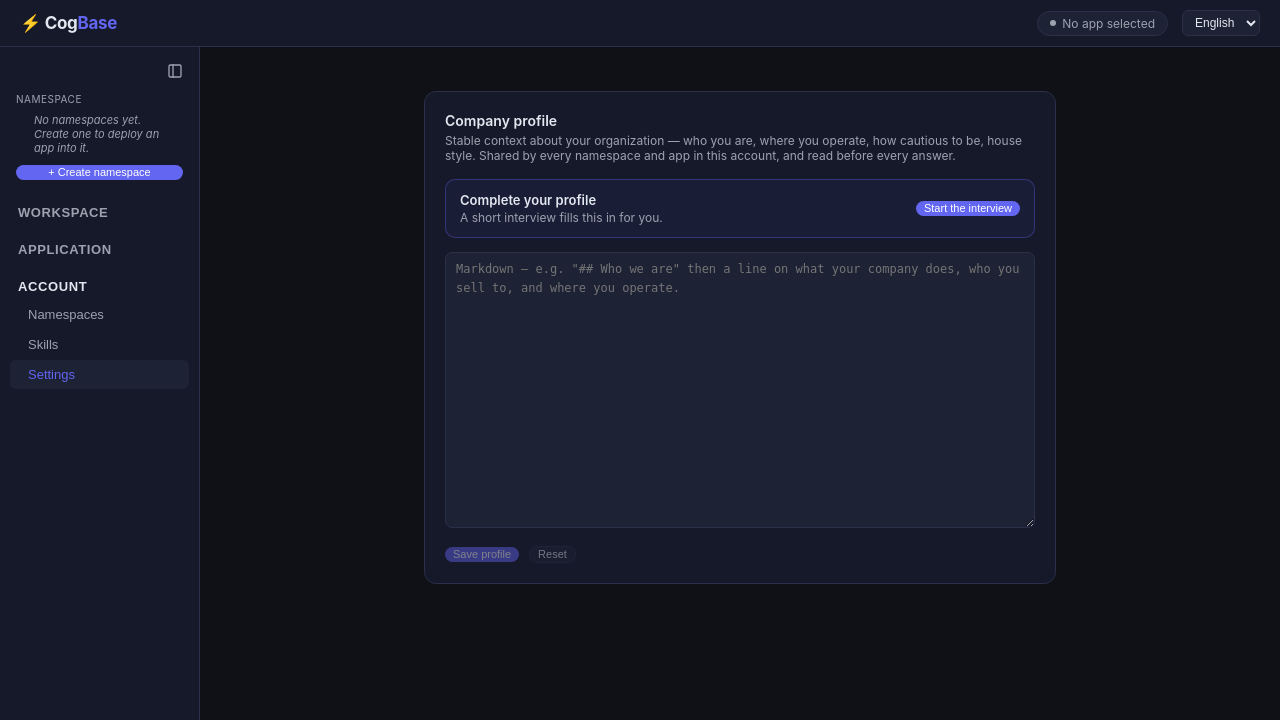
Test case: Layout — account bootstrap (/whoami) › keeps the Settings tab in saas mode but drops the provider sections
Click the button "Account" at (100, 286), box left=10, top=274, right=189, bottom=299
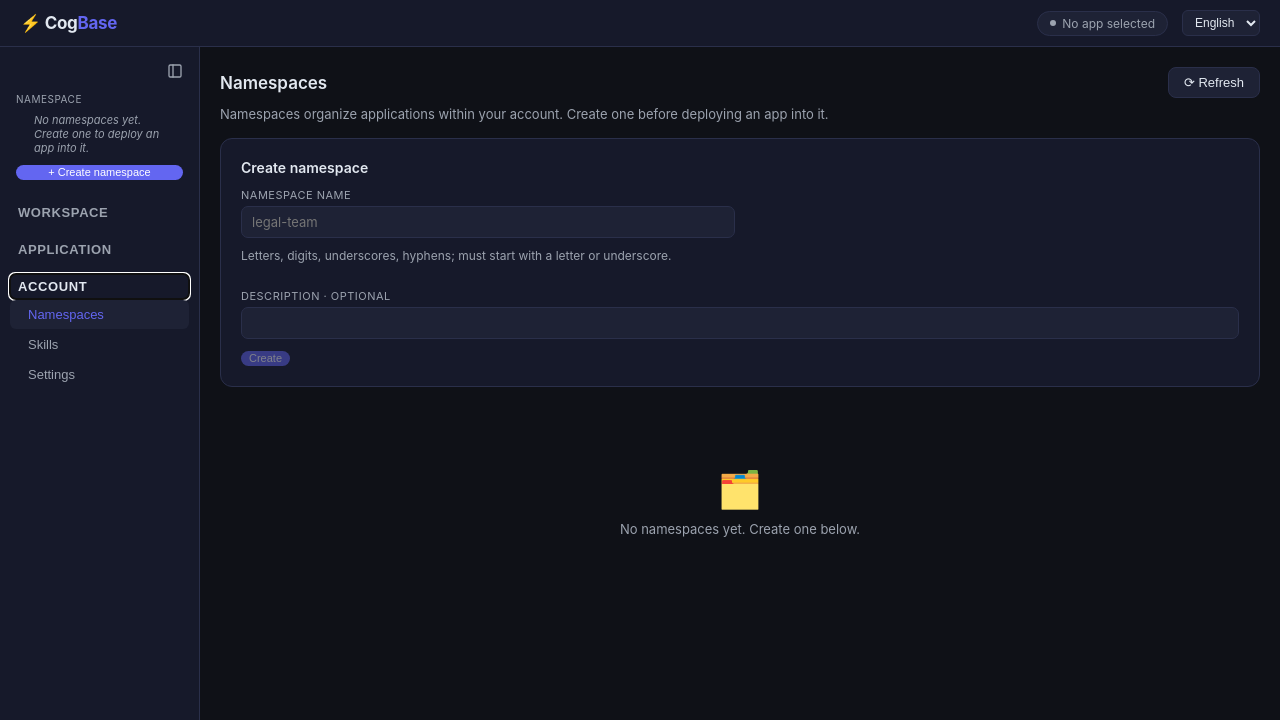
Click the button "Settings" at (100, 374), box left=10, top=360, right=189, bottom=389
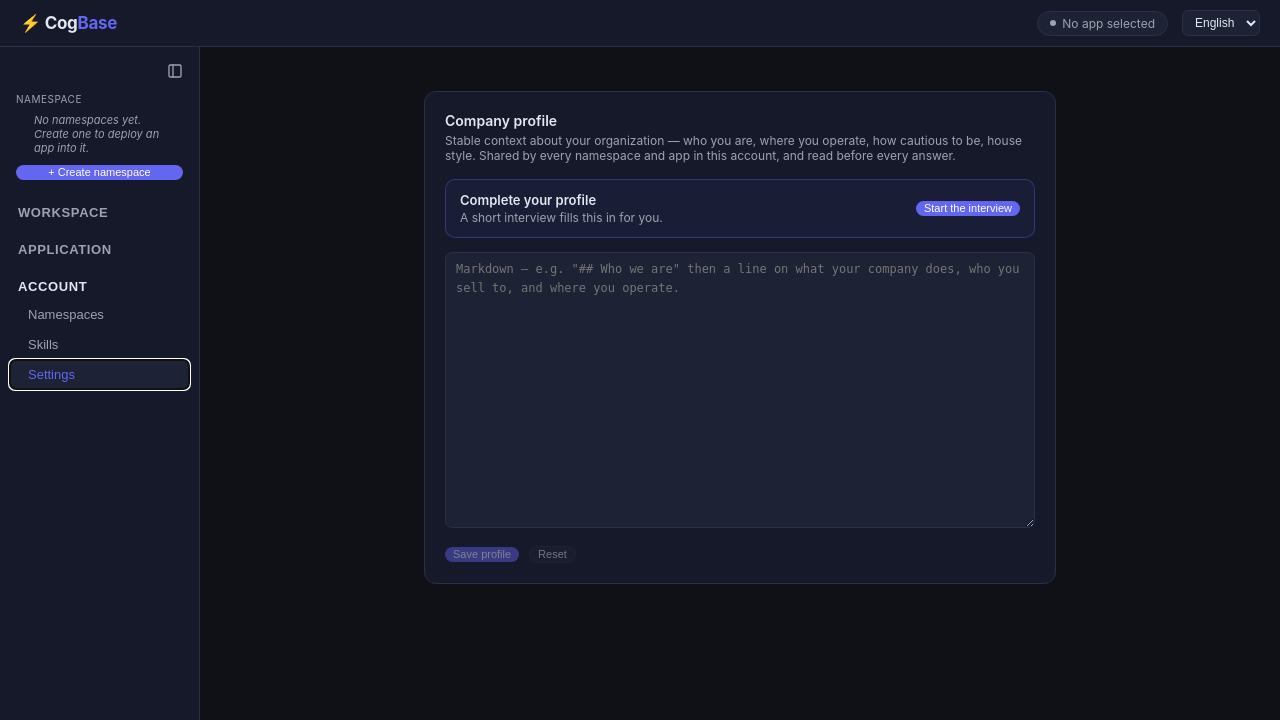
Now the heading "Company profile" is shown, box left=445, top=112, right=557, bottom=129
